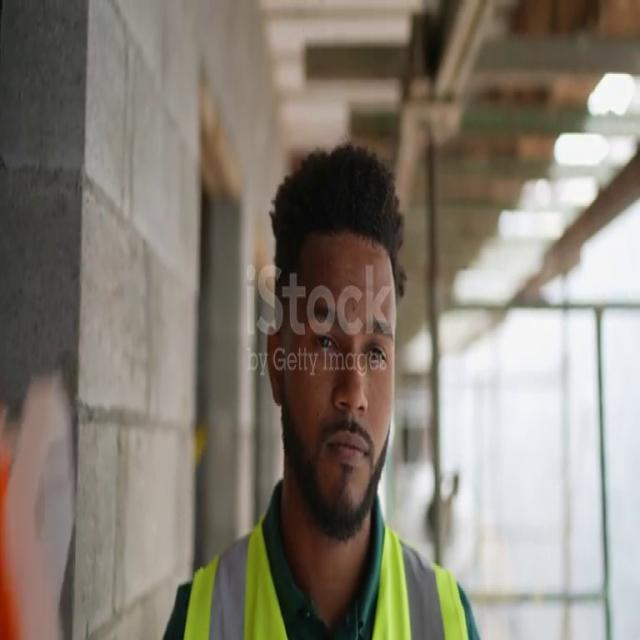sem_capacete: (242, 131, 418, 548)
